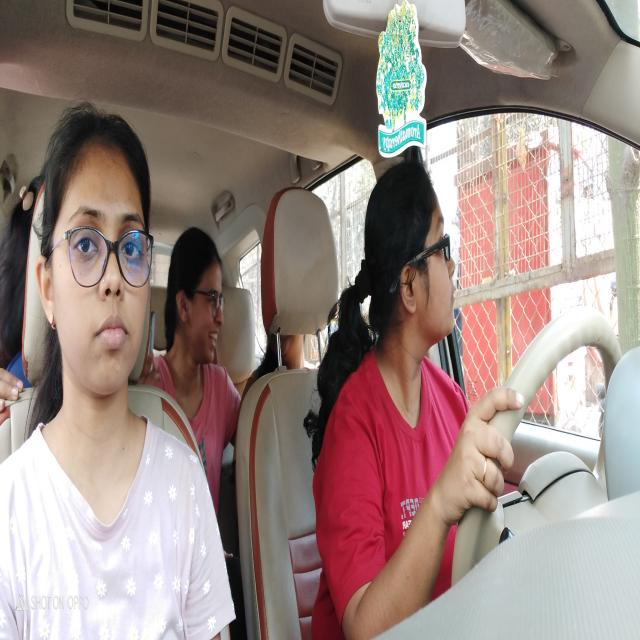LeftRight: (369, 143, 461, 410)
person: (37, 102, 156, 411), (166, 216, 230, 382)
